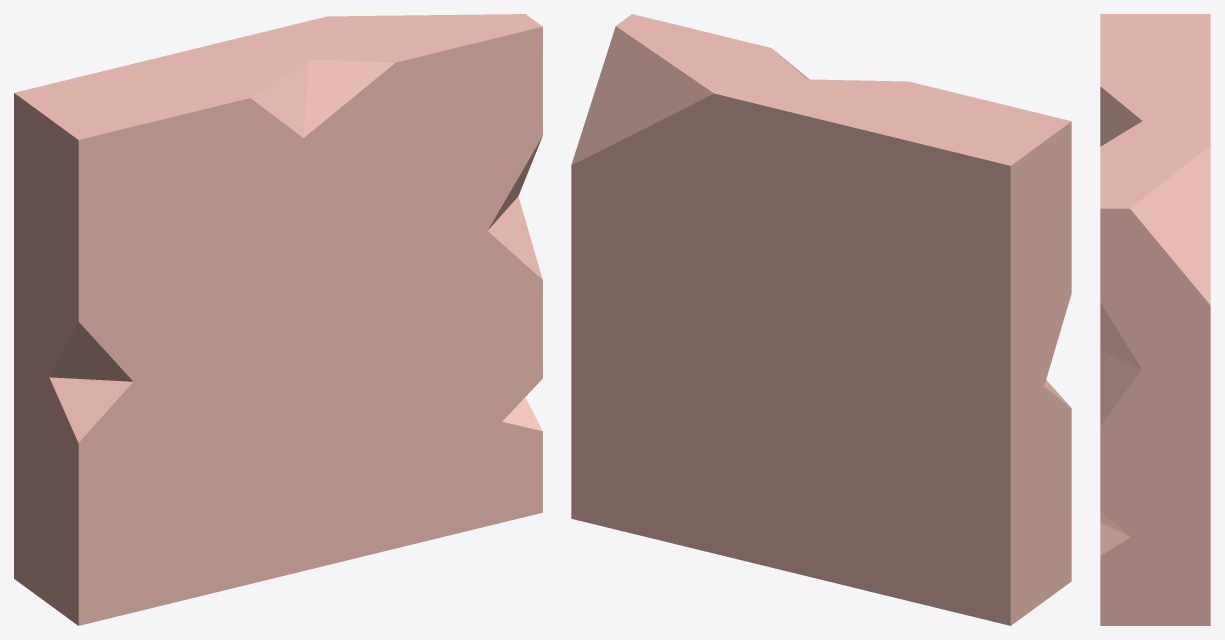
File: Mega_Asset_s_Pack_Cube_209.FBX
The picture shows the model from 3 angles, left to right: view 1: azimuth 30°, elevation 25°; view 2: azimuth 150°, elevation 25°; view 3: azimuth 270°, elevation 25°; orthographic projection. The views are drawn at different scales.
Parts seen in each view (by area): view 1: Mega_Asset_s_Pack_Cube_209; view 2: Mega_Asset_s_Pack_Cube_209; view 3: Mega_Asset_s_Pack_Cube_209.
Boxes of the visible parts, bbox=[...] form: Mega_Asset_s_Pack_Cube_209: bbox=[14, 14, 542, 625]; Mega_Asset_s_Pack_Cube_209: bbox=[571, 14, 1071, 625]; Mega_Asset_s_Pack_Cube_209: bbox=[1100, 14, 1210, 625].
Size of what is drawn, in the model's own units: 248 by 59.53 by 248.
